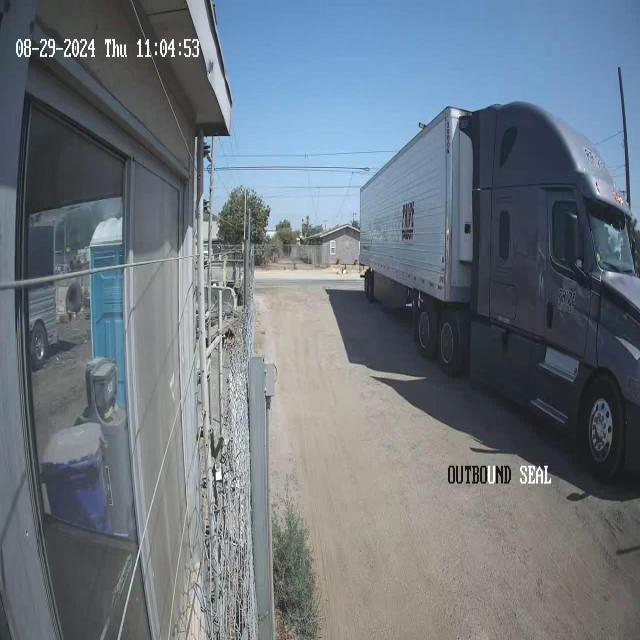TRUCK_CONTAINER: (358, 99, 639, 484)
